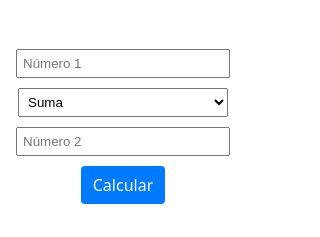
Calculator component › Suma correctamente
The width and height of the screenshot is (320, 237).
Step 1. Type "5" into the number field with placeholder "Número 1" → (123, 63), box [16, 48, 230, 78]
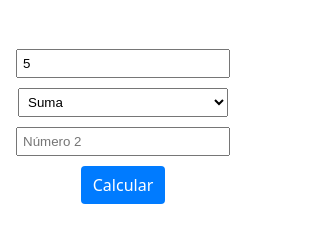
Step 2. Type "3" into the number field with placeholder "Número 2" → (123, 141), box [16, 126, 230, 156]
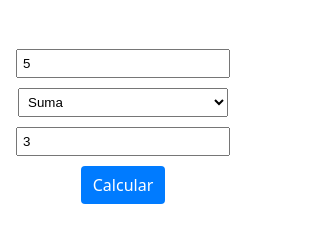
Step 3. Click the button "Calcular" → click(123, 184), box [81, 166, 165, 204]
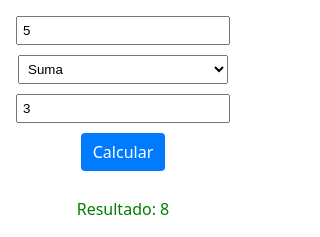
Check: the text "Resultado: 8" is shown, box [77, 196, 169, 220]
